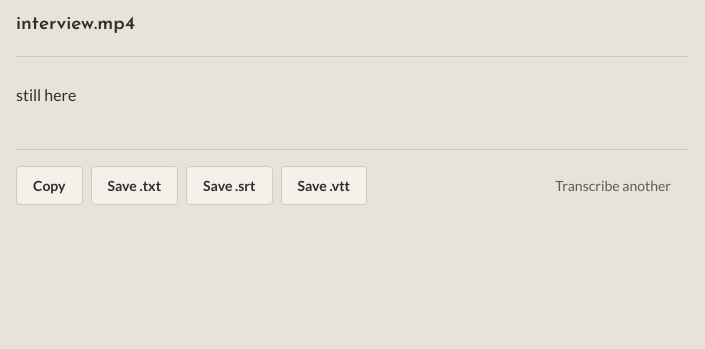
Test: Done › a rejected save shows an inline error, keeps the transcript on screen, and leaves every Save button usable
Click the button "Save .srt".
click(229, 185)  # box x1=186 y1=166 x2=272 y2=204
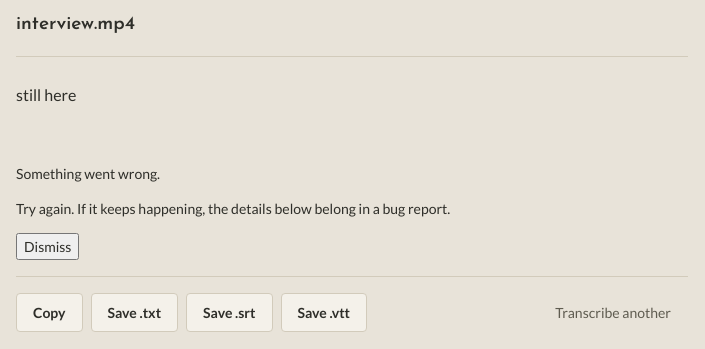
Check: the element with test id "transcript" reads "still here", box x1=16 y1=84 x2=76 y2=104
Check: the message is shown, box x1=16 y1=164 x2=450 y2=260
